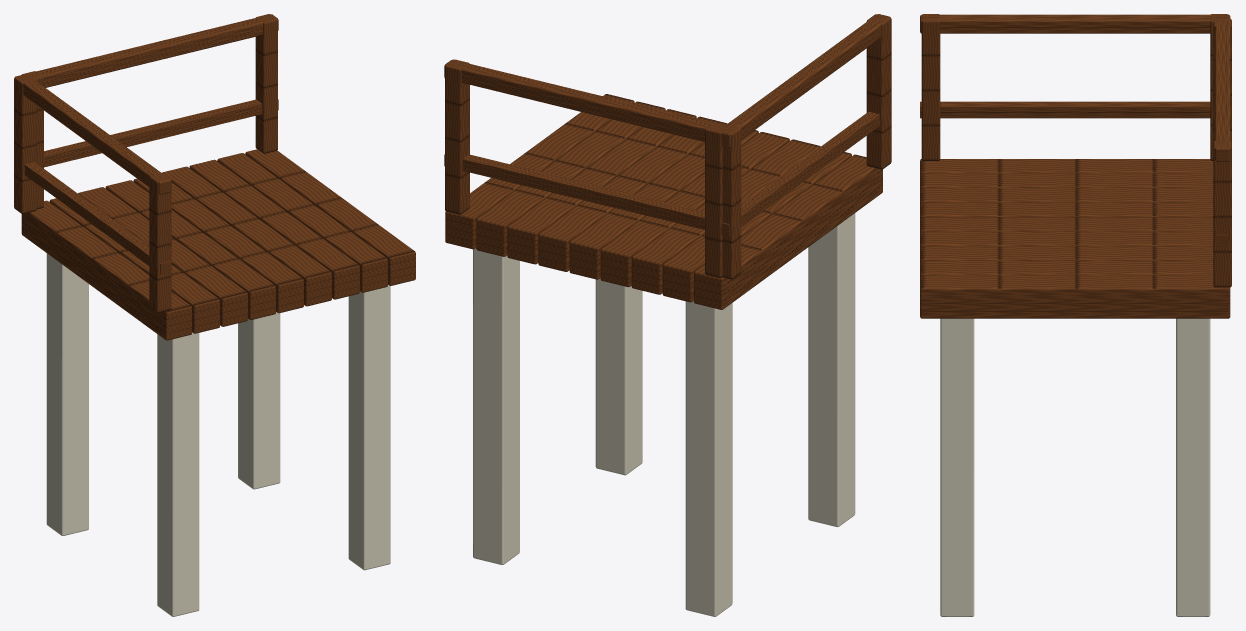
The model's file is fortified-compound-expansion-watch-platform-corner-c80cb22c__27101.glb.
3 renders of one model, left to right at view 1: azimuth 30°, elevation 25°; view 2: azimuth 150°, elevation 25°; view 3: azimuth 270°, elevation 25°, orthographic. The views are drawn at different scales.
Visible parts, largest first — view 1: watch-platform-corner; view 2: watch-platform-corner; view 3: watch-platform-corner.
Boxes of the visible parts, x1,y1,x2,y2 form: watch-platform-corner: (14,14,415,616); watch-platform-corner: (444,14,891,616); watch-platform-corner: (920,14,1231,616).
Bounding box in the file's own units: 2.06 × 3.4 × 2.01.
2 materials, 1 textured.
